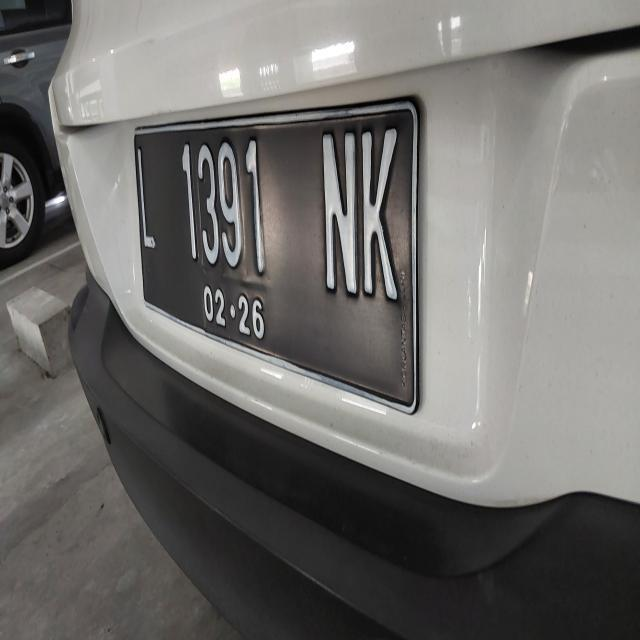1: (243, 136, 273, 282), (178, 138, 198, 268)
3: (199, 137, 221, 276)
9: (218, 138, 246, 277)
K: (361, 128, 402, 300)
L: (136, 145, 160, 257)
N: (317, 128, 359, 300)
